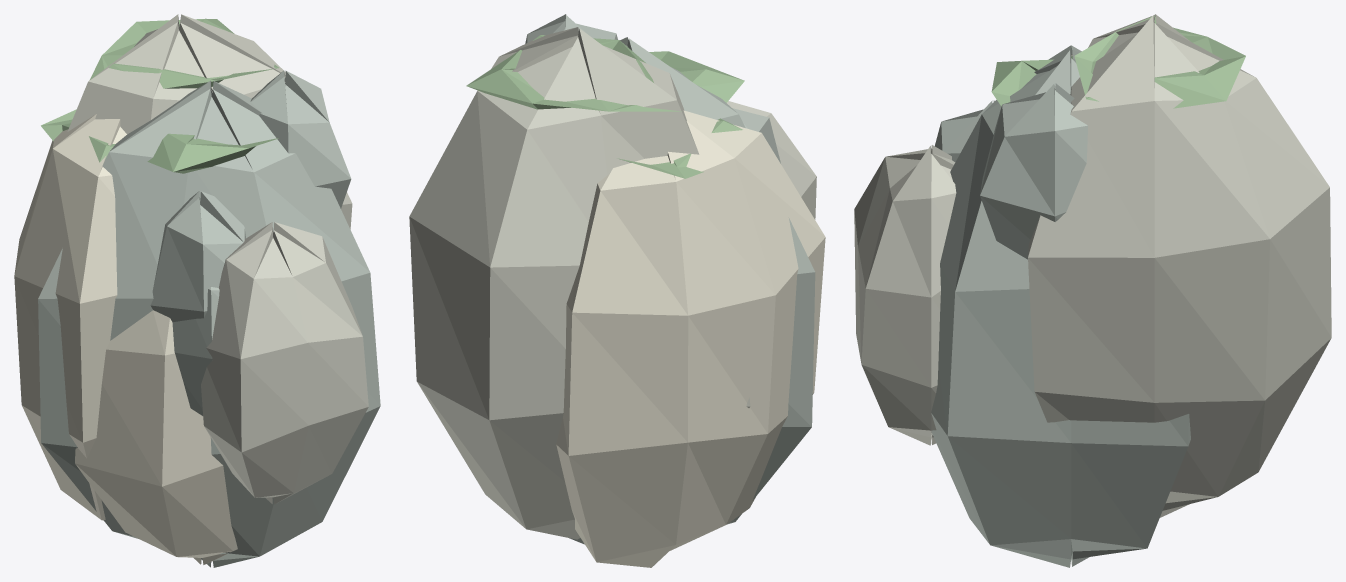
File: slate_outcrop.glb
3 views of the same model, side by side, from view 1: azimuth 30°, elevation 25°; view 2: azimuth 150°, elevation 25°; view 3: azimuth 270°, elevation 25° (orthographic). The views are drawn at different scales.
Visible parts, largest first — view 1: slate_outcrop; view 2: slate_outcrop; view 3: slate_outcrop.
Part boxes in pixels (x1,y1,x2,y2): slate_outcrop: [14, 14, 380, 567]; slate_outcrop: [409, 14, 825, 567]; slate_outcrop: [854, 14, 1331, 567].
Bounding box in the file's own units: 2.42 × 4.06 × 3.15.
